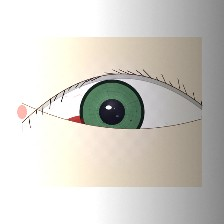hemorrhage_spot: (51, 82, 152, 163)
